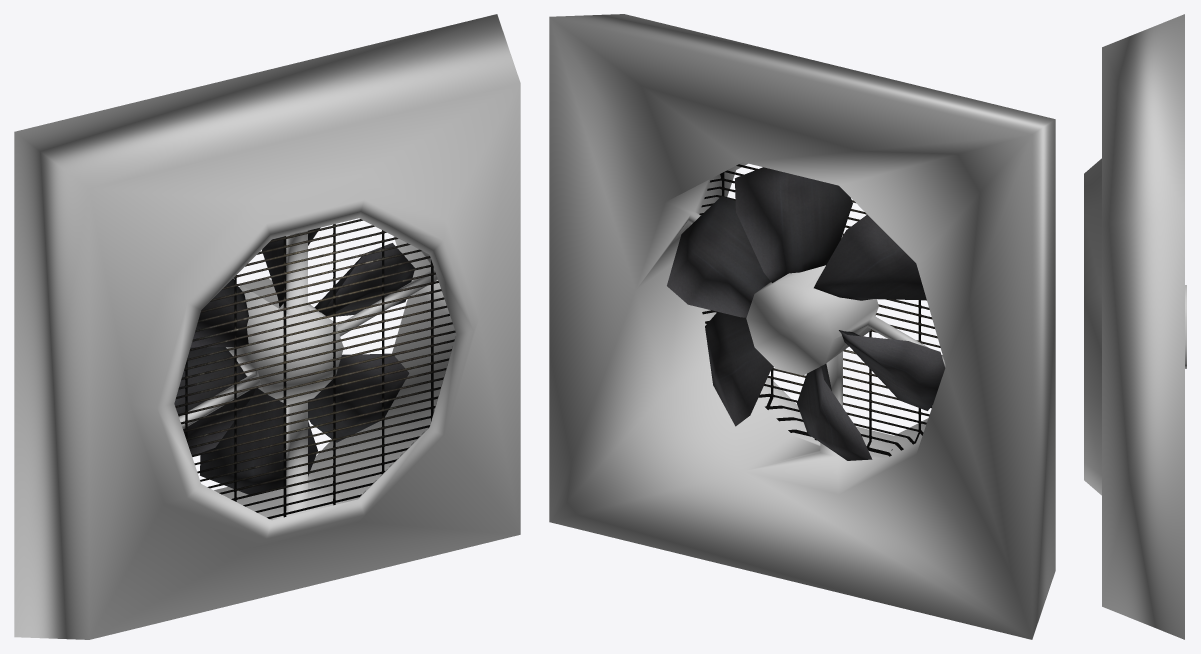
The model's file is Vent-Square.fbx.
3 renders of one model, left to right at view 1: azimuth 30°, elevation 25°; view 2: azimuth 150°, elevation 25°; view 3: azimuth 270°, elevation 25°, orthographic. The views are drawn at different scales.
Visible parts, largest first — view 1: Vent-Square, Net-Vent-Square, Blades-Vent-Square; view 2: Vent-Square, Blades-Vent-Square, Net-Vent-Square; view 3: Vent-Square.
Part boxes in pixels (<box>): Vent-Square: <box>14,14,520,639</box>; Net-Vent-Square: <box>175,219,455,518</box>; Blades-Vent-Square: <box>174,227,414,494</box>; Vent-Square: <box>549,14,1055,639</box>; Blades-Vent-Square: <box>667,167,945,460</box>; Net-Vent-Square: <box>699,164,942,456</box>; Vent-Square: <box>1084,14,1186,639</box>.
Size of the model in its own units: 10.35 by 10.35 by 2.26.
